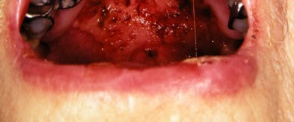SJS-TEN: (64, 0, 217, 68)
